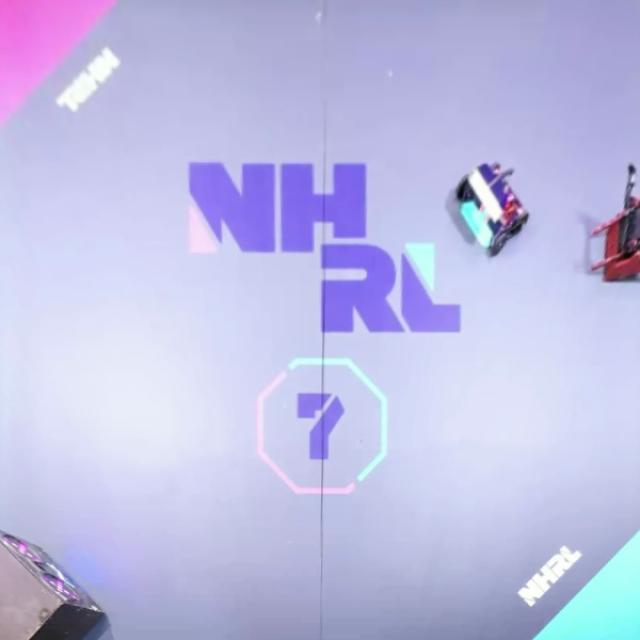housebot: (0, 529, 108, 639)
robot: (454, 160, 530, 256), (590, 165, 640, 282)
